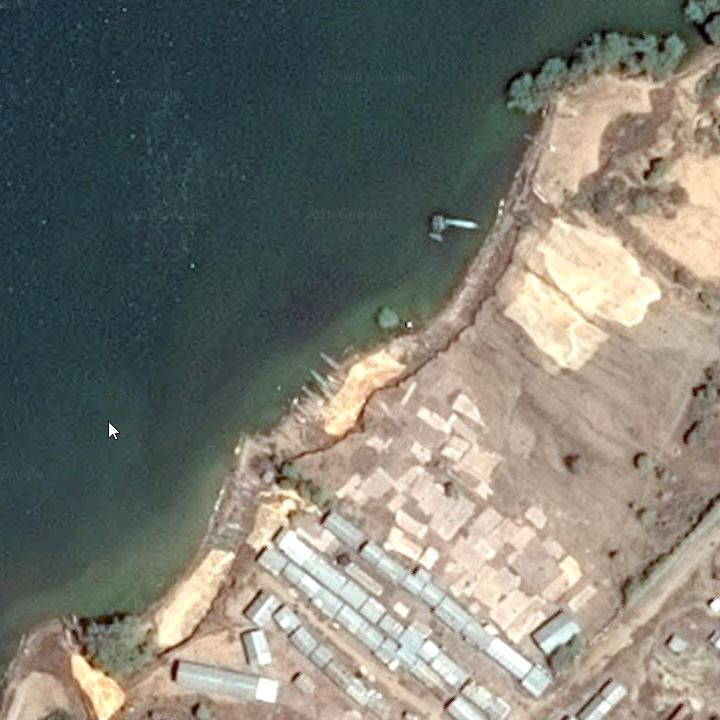boat: (315, 349, 347, 374), (295, 382, 327, 405), (306, 367, 335, 392), (445, 214, 480, 233)
